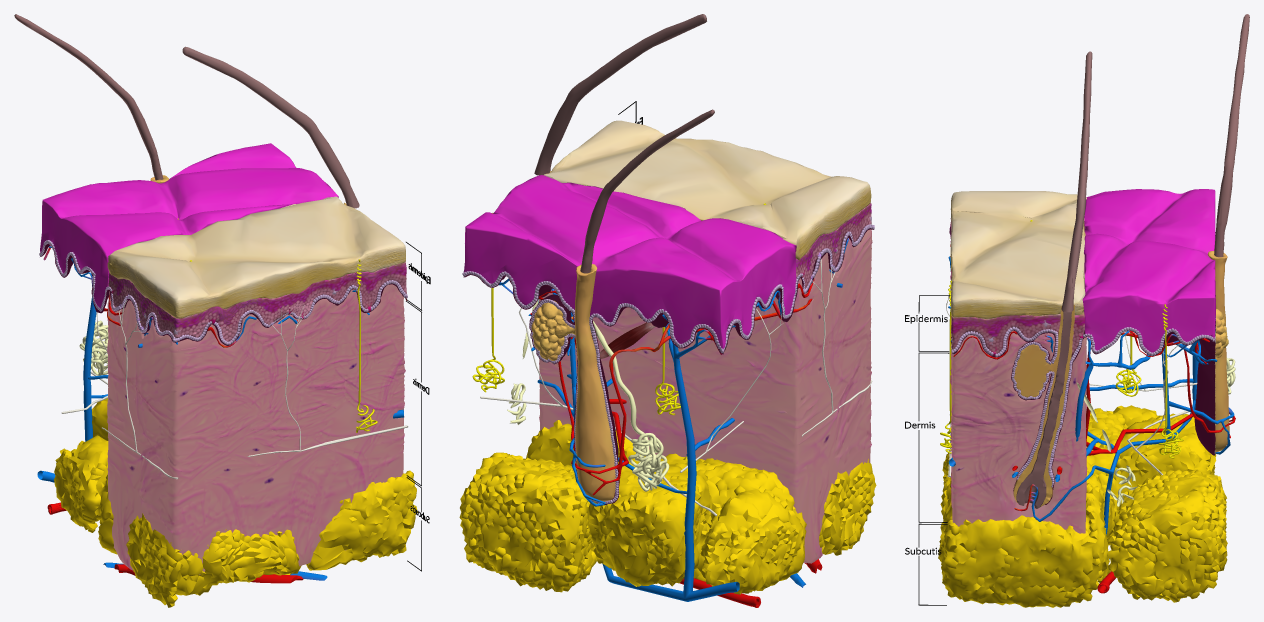
The model's file is anatomy_of_the_skin.glb.
The picture shows the model from 3 angles, left to right: view 1: azimuth 30°, elevation 25°; view 2: azimuth 150°, elevation 25°; view 3: azimuth 270°, elevation 25°; orthographic projection. The views are drawn at different scales.
Visible parts, largest first — view 1: PM3D_Cube3D5_945, Big, PM3D_Sphere3D2_343, PM3D_Cube3D2, Epischdermis, Skin_ZSphere_4, Skin_ZSphere6, PM3D_Cube3D5_953, Skin_ZSphere7, Extract6, Extract3_1, Epidermis (+1 smaller); view 2: PM3D_Sphere3D2_343, PM3D_Cube3D5_945, PM3D_Cube3D2, Big, Skin_ZSphere6, Extract1, Skin_ZSphere_4, PM3D_Cube3D5_953, Extract3_1, Extract6, Epischdermis, Skin_ZSphere7 (+3 smaller); view 3: PM3D_Sphere3D2_343, PM3D_Cube3D2, PM3D_Cube3D5_945, Big, Skin_ZSphere_4, Skin_ZSphere6, Extract1, PM3D_Cube3D5_953, Extract6, Epischdermis, Skin_ZSphere29_11, Epidermis (+2 smaller).
Part boxes in pixels (left/top/right/bottom): PM3D_Cube3D5_945: left=107, top=284, right=405, bottom=574; Big: left=107, top=196, right=405, bottom=318; PM3D_Sphere3D2_343: left=54, top=398, right=417, bottom=607; PM3D_Cube3D2: left=40, top=143, right=338, bottom=308; Epischdermis: left=108, top=261, right=406, bottom=341; Skin_ZSphere_4: left=14, top=14, right=359, bottom=208; Skin_ZSphere6: left=37, top=245, right=406, bottom=583; PM3D_Cube3D5_953: left=39, top=240, right=407, bottom=344; Skin_ZSphere7: left=61, top=300, right=408, bottom=479; Extract6: left=40, top=243, right=406, bottom=345; Extract3_1: left=79, top=320, right=108, bottom=375; Epidermis: left=405, top=242, right=430, bottom=571; PM3D_Sphere3D2_343: left=459, top=420, right=876, bottom=594; PM3D_Cube3D5_945: left=539, top=229, right=872, bottom=563; PM3D_Cube3D2: left=464, top=175, right=796, bottom=348; Big: left=544, top=120, right=871, bottom=259; Skin_ZSphere6: left=499, top=238, right=848, bottom=607; Extract1: left=531, top=171, right=615, bottom=501; Skin_ZSphere_4: left=534, top=14, right=714, bottom=273; PM3D_Cube3D5_953: left=462, top=224, right=874, bottom=503; Extract3_1: left=592, top=320, right=669, bottom=491; Extract6: left=463, top=228, right=873, bottom=504; Epischdermis: left=796, top=202, right=871, bottom=288; Skin_ZSphere7: left=480, top=259, right=872, bottom=515; PM3D_Sphere3D2_343: left=938, top=405, right=1227, bottom=607; PM3D_Cube3D2: left=1082, top=189, right=1215, bottom=352; PM3D_Cube3D5_945: left=950, top=256, right=1087, bottom=533; Big: left=950, top=191, right=1086, bottom=318; Skin_ZSphere_4: left=1016, top=14, right=1249, bottom=508; Skin_ZSphere6: left=948, top=244, right=1235, bottom=593; Extract1: left=1013, top=251, right=1229, bottom=507; PM3D_Cube3D5_953: left=951, top=230, right=1215, bottom=487; Extract6: left=951, top=232, right=1215, bottom=504; Epischdermis: left=949, top=218, right=1084, bottom=355; Skin_ZSphere29_11: left=940, top=220, right=1183, bottom=458; Epidermis: left=905, top=295, right=949, bottom=605.
Size of the model in its own units: 11.52 by 21.18 by 13.53.
16 materials, 2 textured.
